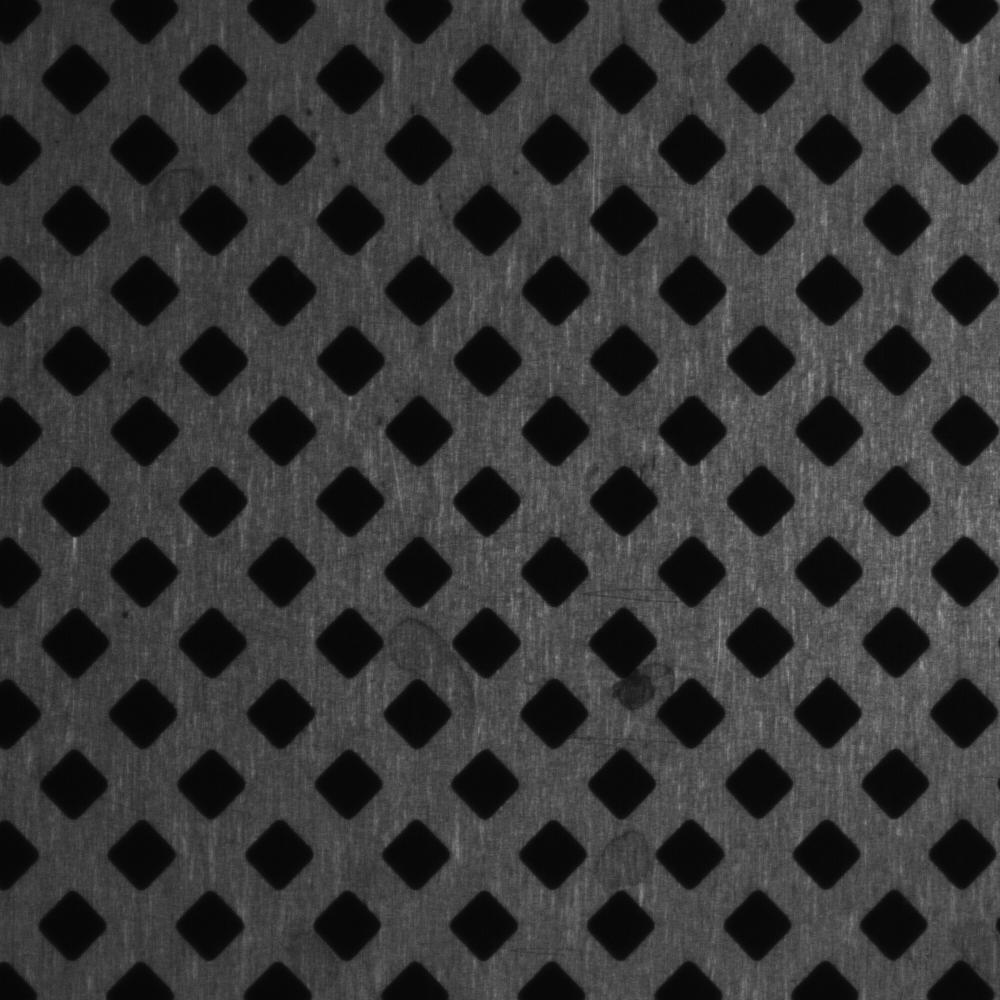Discolor: (376, 601, 492, 739), (580, 808, 662, 908), (599, 659, 692, 746), (138, 159, 206, 228)
Scar: (566, 576, 683, 611)
